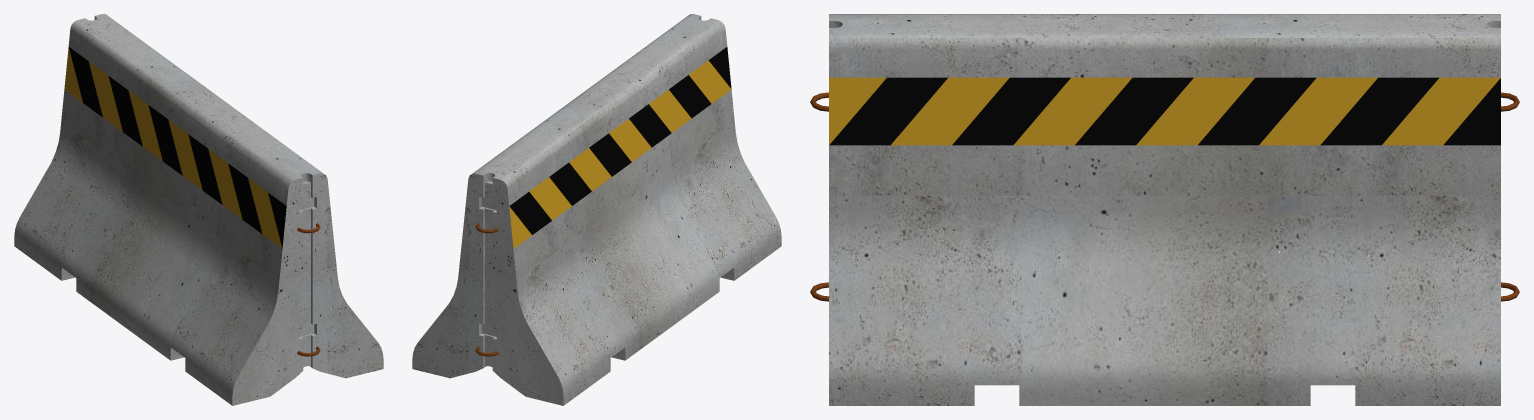
Rendered from barrier.dae.
3 renders of one model, left to right at view 1: azimuth 30°, elevation 25°; view 2: azimuth 150°, elevation 25°; view 3: azimuth 270°, elevation 25°, orthographic. The views are drawn at different scales.
Parts seen in each view (by area): view 1: concrete; view 2: concrete; view 3: concrete.
Part boxes in pixels (<box>): concrete: <box>14,14,383,405</box>; concrete: <box>412,14,781,405</box>; concrete: <box>829,14,1500,405</box>.
Bounding box in the file's own units: 0.3787 × 0.5049 × 1.
Materials: 4 (1 with a texture image).
